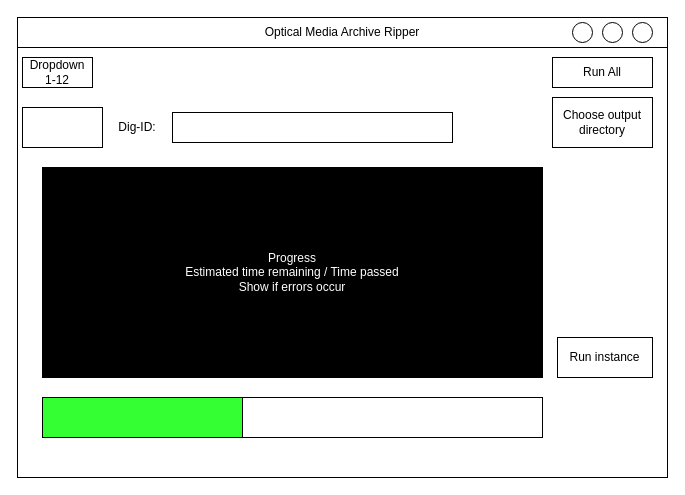
This 685x495 diagram has some shape labels left out. Each missing label, with the box of its shape:
Input Dig-ID: (172, 112, 452, 142)
Instance 1:: (22, 106, 102, 148)
Progressbar: (42, 396, 542, 438)
